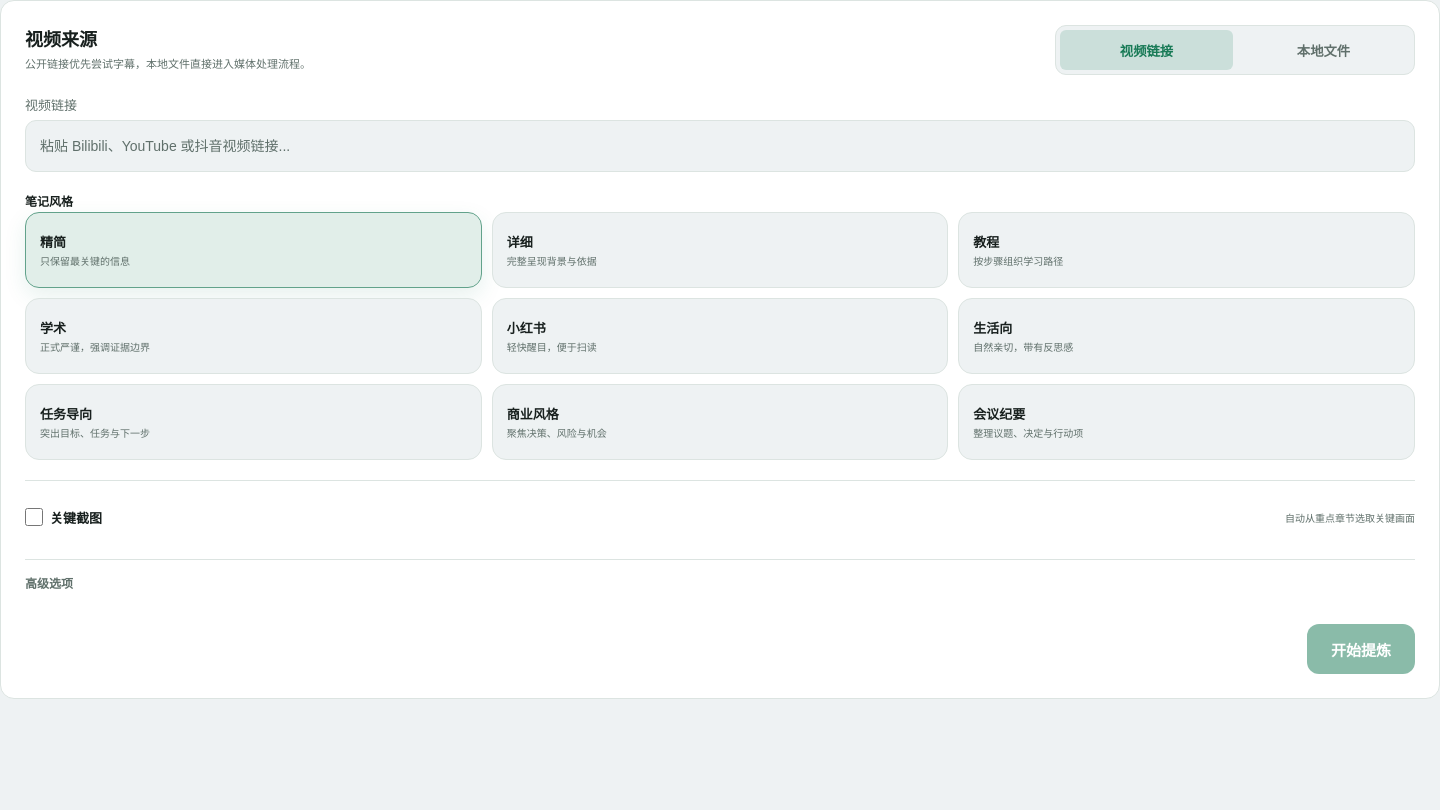
InputPanel workbench inputs › offers separate accessible link and local-file tabs
Expected: the tab "视频链接" is shown, [1060,30,1233,70]
Click the tab "本地文件" at (1324, 50), box [1237,30,1410,70]
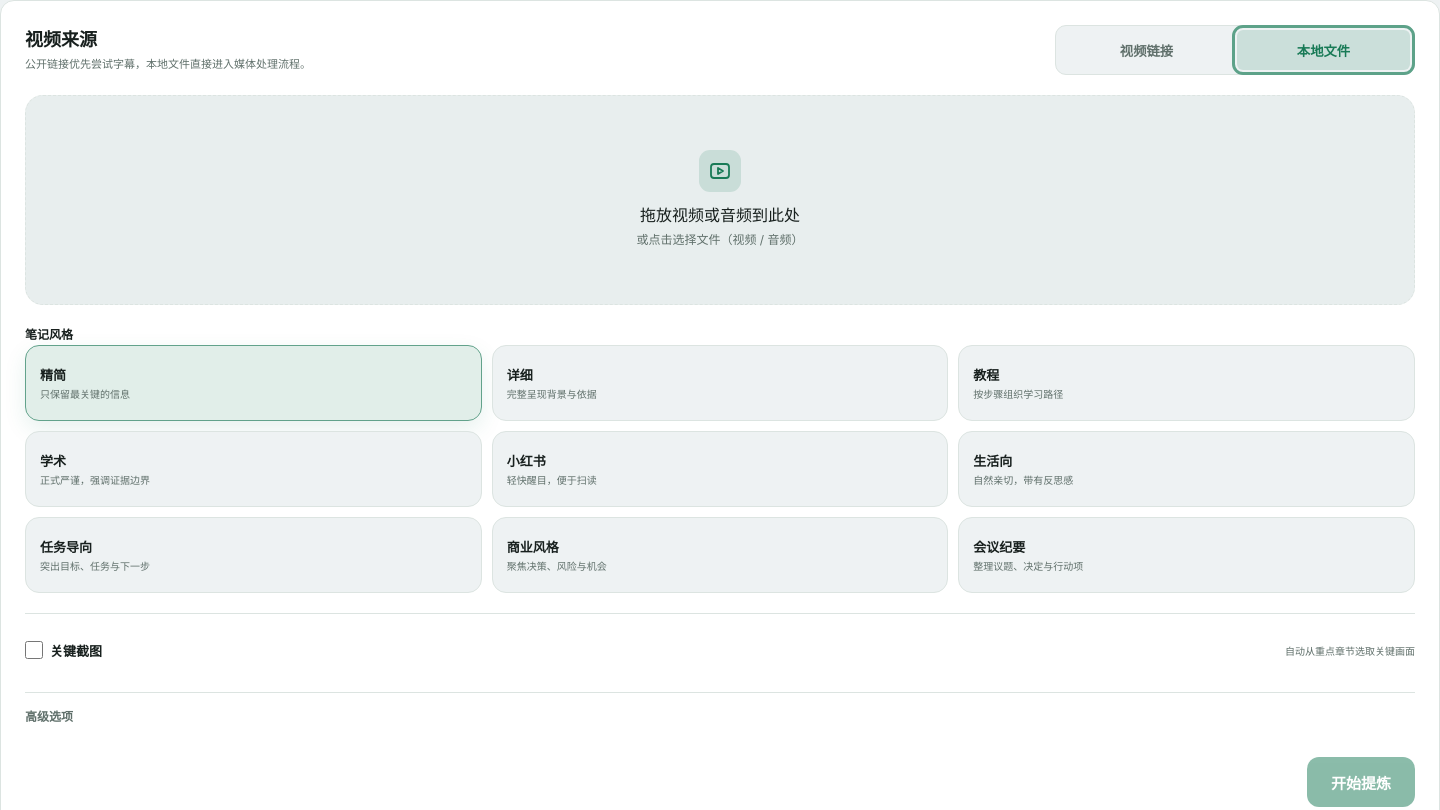
Expected: the button with aria-label "拖放视频或音频文件，或点击选择" is shown, [25,95,1415,305]
